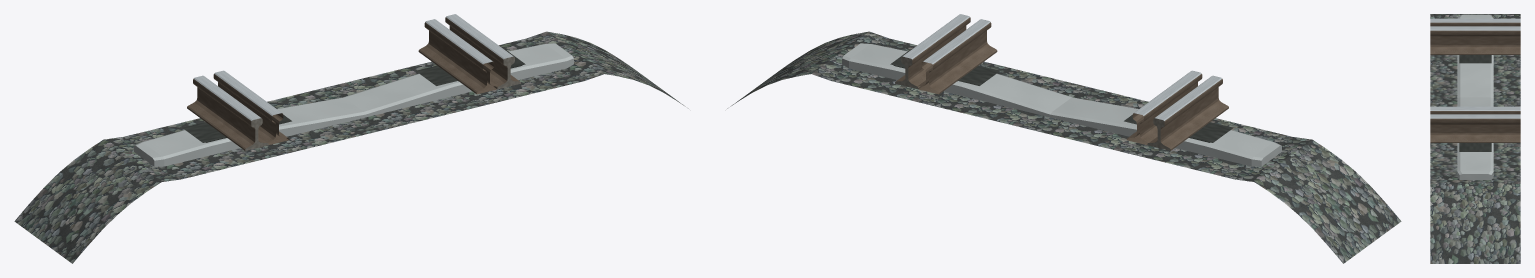
The model's file is outer_guard_old_low.obj.
3 renders of one model, left to right at view 1: azimuth 30°, elevation 25°; view 2: azimuth 150°, elevation 25°; view 3: azimuth 270°, elevation 25°, orthographic. The views are drawn at different scales.
Visible parts, largest first — view 1: ballast, sleeper, outer_guard_right, rail_left, outer_guard_left, rail_right, outer_fastener_left, outer_fastener_right; view 2: ballast, sleeper, outer_guard_right, rail_left, outer_guard_left, rail_right, outer_fastener_left, outer_fastener_right; view 3: ballast, sleeper, rail_right, outer_guard_left, rail_left, outer_guard_right, outer_fastener_left, outer_fastener_right.
Boxes of the visible parts, x1=… form: ballast: x1=14, y1=31, x2=688, y2=263; sleeper: x1=134, y1=43, x2=573, y2=166; outer_guard_right: x1=418, y1=19, x2=498, y2=94; rail_left: x1=187, y1=75, x2=266, y2=150; outer_guard_left: x1=213, y1=70, x2=289, y2=144; rail_right: x1=445, y1=14, x2=519, y2=88; outer_fastener_left: x1=182, y1=115, x2=291, y2=142; outer_fastener_right: x1=416, y1=49, x2=525, y2=85; ballast: x1=727, y1=31, x2=1401, y2=263; sleeper: x1=842, y1=43, x2=1281, y2=166; outer_guard_right: x1=917, y1=19, x2=997, y2=94; rail_left: x1=1149, y1=75, x2=1228, y2=150; outer_guard_left: x1=1126, y1=70, x2=1202, y2=144; rail_right: x1=896, y1=14, x2=970, y2=88; outer_fastener_left: x1=1124, y1=115, x2=1233, y2=142; outer_fastener_right: x1=890, y1=49, x2=999, y2=85; ballast: x1=1430, y1=14, x2=1520, y2=263; sleeper: x1=1457, y1=14, x2=1493, y2=179; rail_right: x1=1430, y1=114, x2=1520, y2=142; outer_guard_left: x1=1430, y1=26, x2=1520, y2=54; rail_left: x1=1430, y1=18, x2=1520, y2=26; outer_guard_right: x1=1430, y1=106, x2=1520, y2=114; outer_fastener_left: x1=1459, y1=55, x2=1491, y2=63; outer_fastener_right: x1=1459, y1=143, x2=1491, y2=151.
Bounding box in the file's own units: 3.7 × 0.5683 × 0.6.
